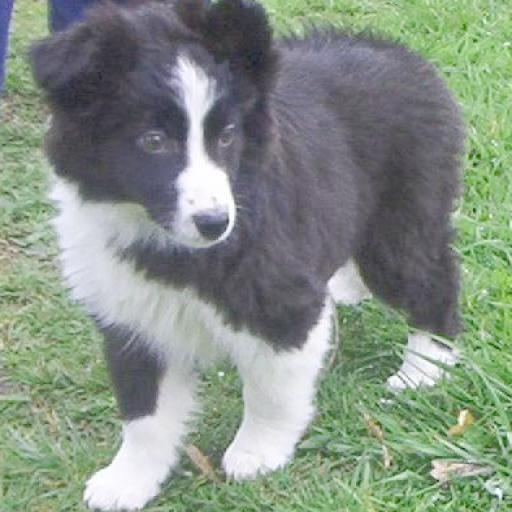dog_face: (27, 0, 292, 229)
